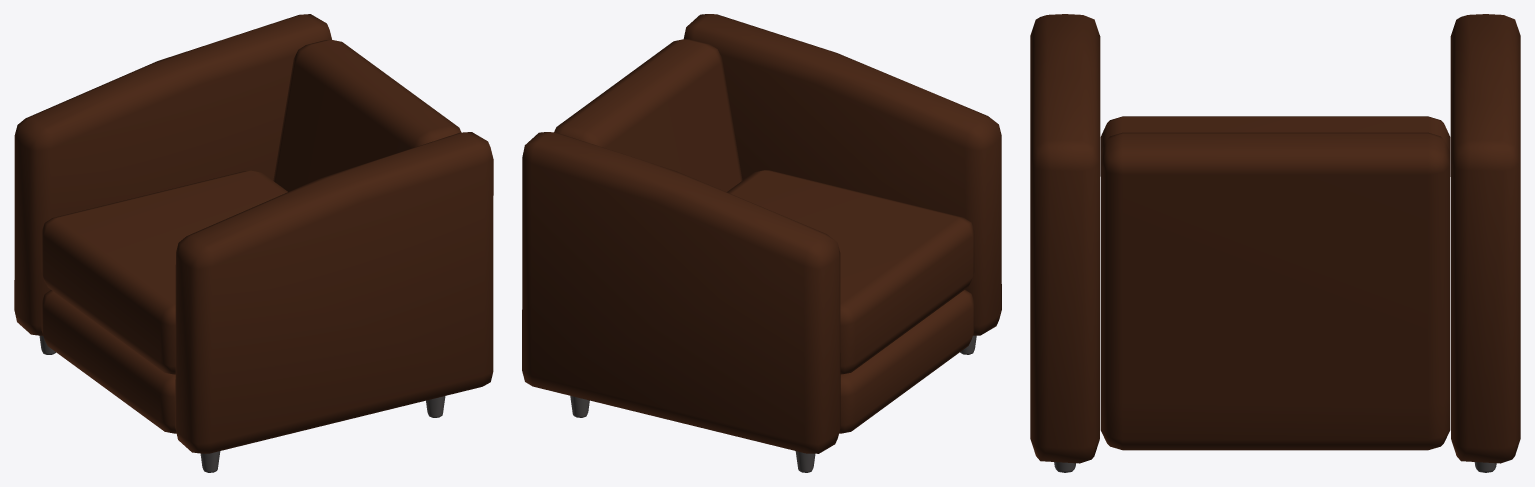
The model's file is armchair_02_dark_brown.fbx.
3 renders of one model, left to right at view 1: azimuth 30°, elevation 25°; view 2: azimuth 150°, elevation 25°; view 3: azimuth 270°, elevation 25°, orthographic. The views are drawn at different scales.
Visible parts, largest first — view 1: armchair_02_dark_brown; view 2: armchair_02_dark_brown; view 3: armchair_02_dark_brown.
Boxes of the visible parts, x1=… form: armchair_02_dark_brown: x1=14, y1=14, x2=493, y2=472; armchair_02_dark_brown: x1=522, y1=14, x2=1001, y2=472; armchair_02_dark_brown: x1=1030, y1=14, x2=1520, y2=472.
Bounding box in the file's own units: 93.54 × 79.46 × 100.
2 materials, 2 textured.
